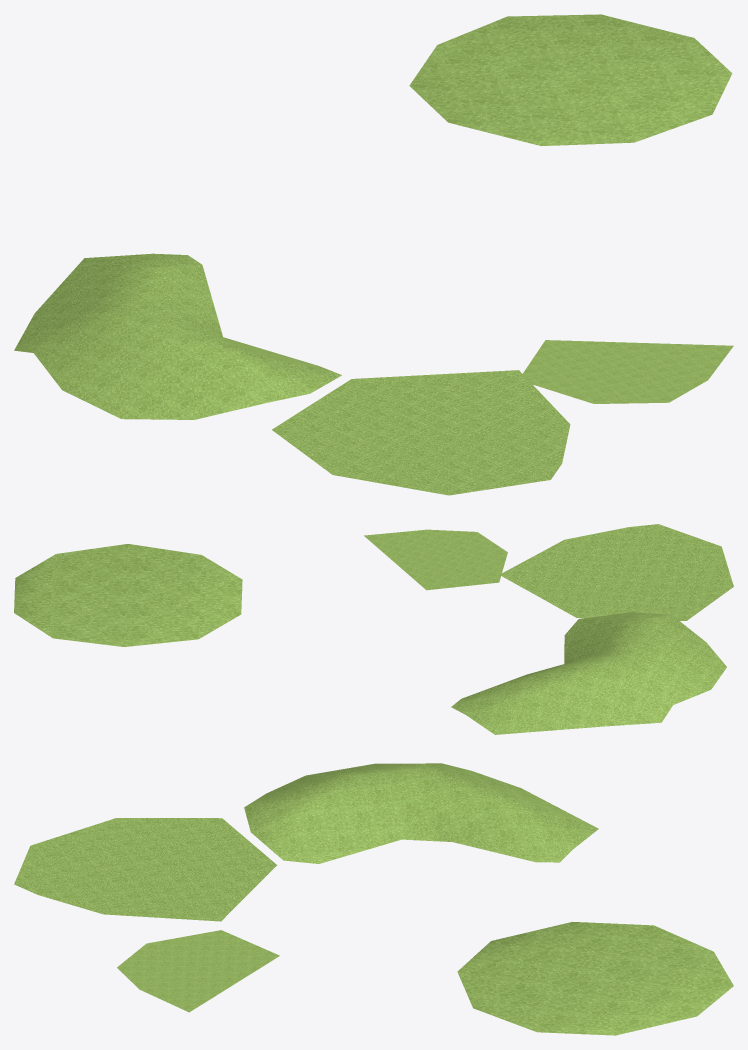
File: kd_stage_1366d7_17_0.glb
3 views of the same model, one above another, from view 1: azimuth 30°, elevation 25°; view 2: azimuth 150°, elevation 25°; view 3: azimuth 270°, elevation 25° (orthographic). The views are drawn at different scales.
Parts seen in each view (by area): view 1: kd_stage_1366d7_17_0; view 2: kd_stage_1366d7_17_0; view 3: kd_stage_1366d7_17_0.
Boxes of the visible parts, x1,y1,x2,y2 form: kd_stage_1366d7_17_0: (14, 14, 733, 495); kd_stage_1366d7_17_0: (14, 524, 733, 734); kd_stage_1366d7_17_0: (14, 763, 733, 1035).
Bounding box in the file's own units: 321 × 29.8 × 302.
Materials: 1 (1 with a texture image).
